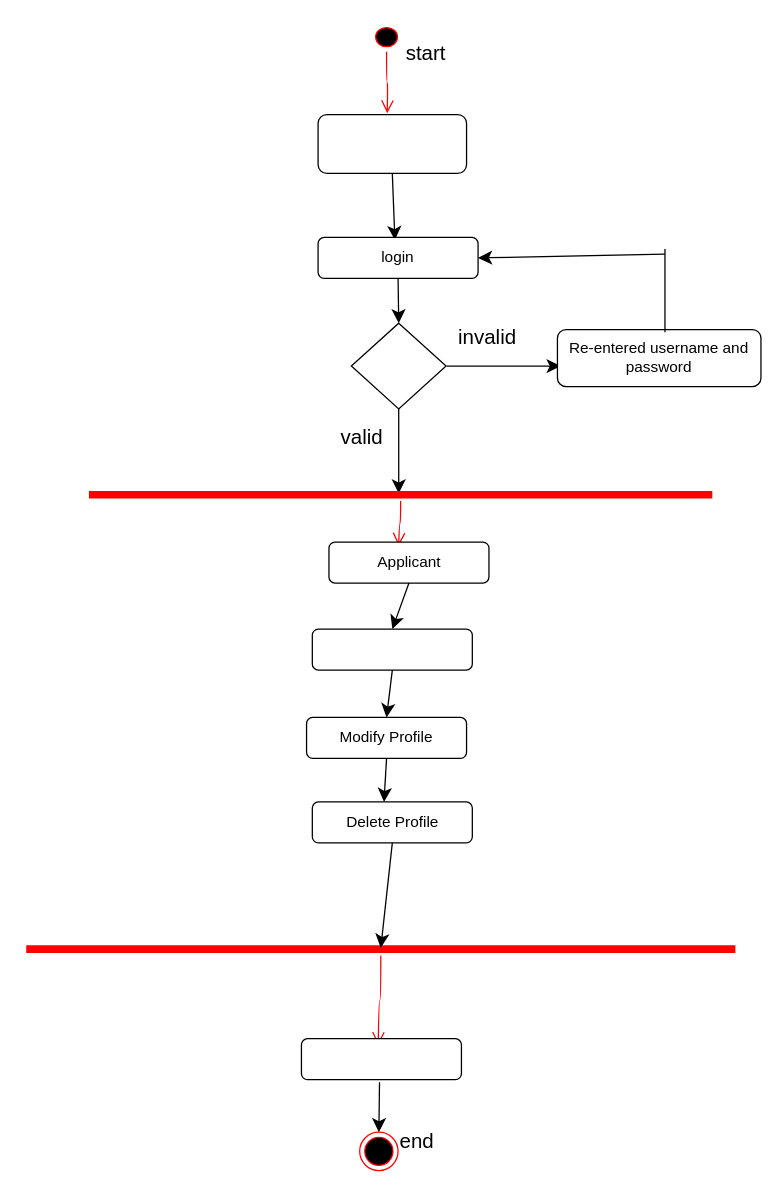
The diagram is 783 pixels wide and 1193 high, and some of its shapes have lost their labels. Each missing label, with the centre of its shape:
"Applicant is registered" goes at point (392, 143).
"Create Profile" goes at point (391, 649).
"logout" goes at point (380, 1058).
